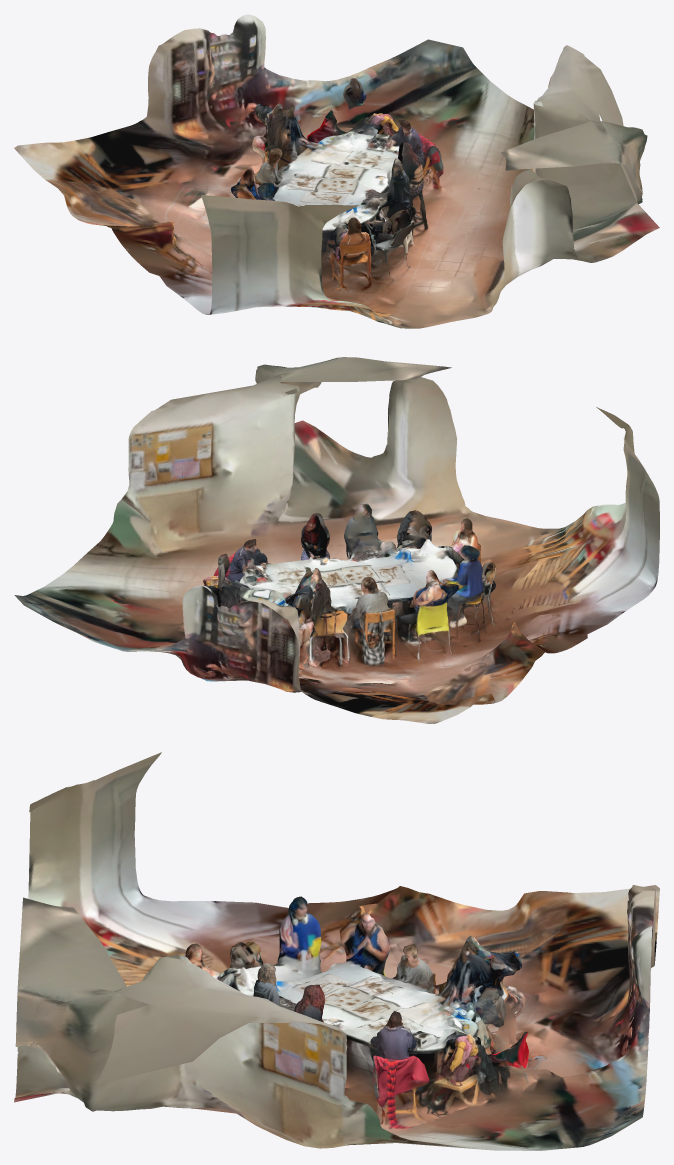
3 views of the same model, one above another, from view 1: azimuth 30°, elevation 25°; view 2: azimuth 150°, elevation 25°; view 3: azimuth 270°, elevation 25° (orthographic). The views are drawn at different scales.
Visible parts, largest first — view 1: photogrammetry; view 2: photogrammetry; view 3: photogrammetry.
Part boxes in pixels (left/top/right/bottom): photogrammetry: left=14, top=14, right=659, bottom=328; photogrammetry: left=14, top=357, right=659, bottom=723; photogrammetry: left=14, top=752, right=659, bottom=1150.
Size of the model in its own units: 7.34 by 2.4 by 7.46.
1 material, 1 textured.
